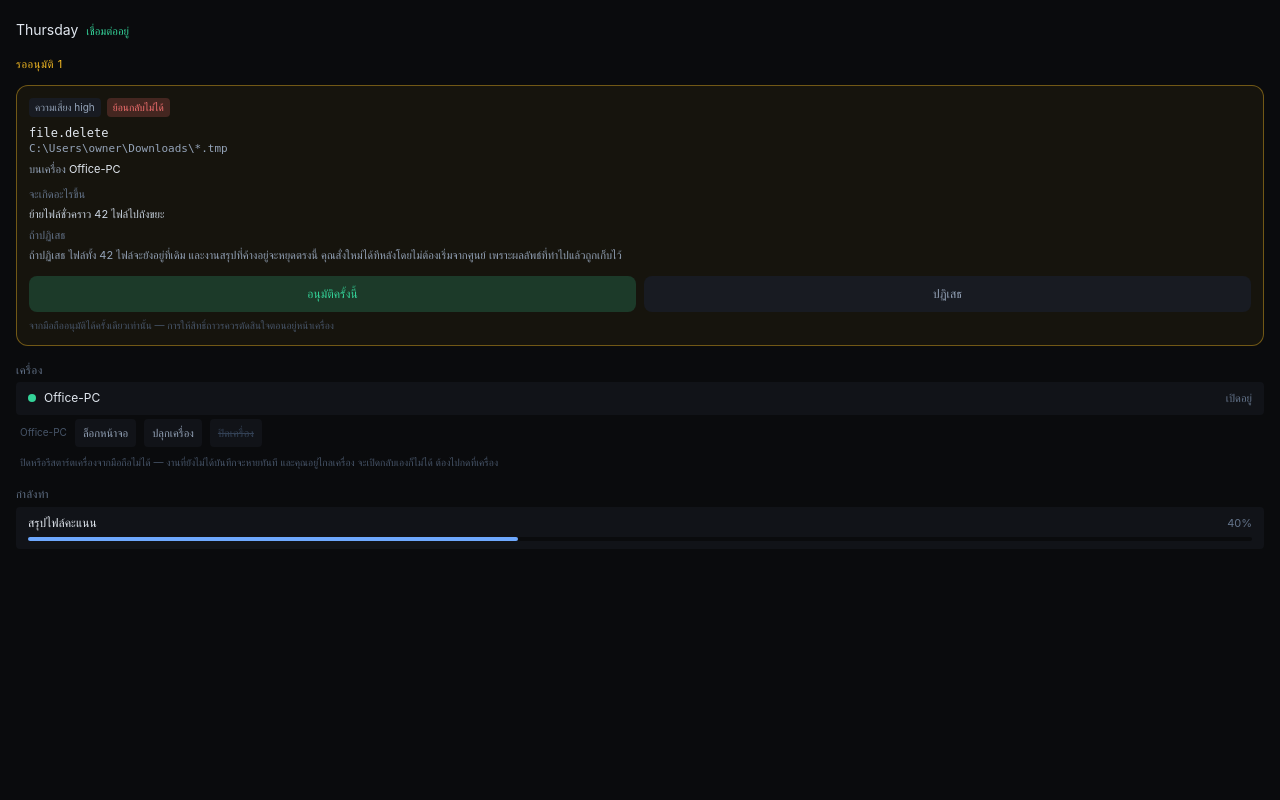
Test: what a phone may do to a machine › says an action is waiting on an answer rather than claiming it ran
Click the button "ล็อกหน้าจอ". click: (106, 433)
box: x1=75 y1=418 x2=136 y2=447
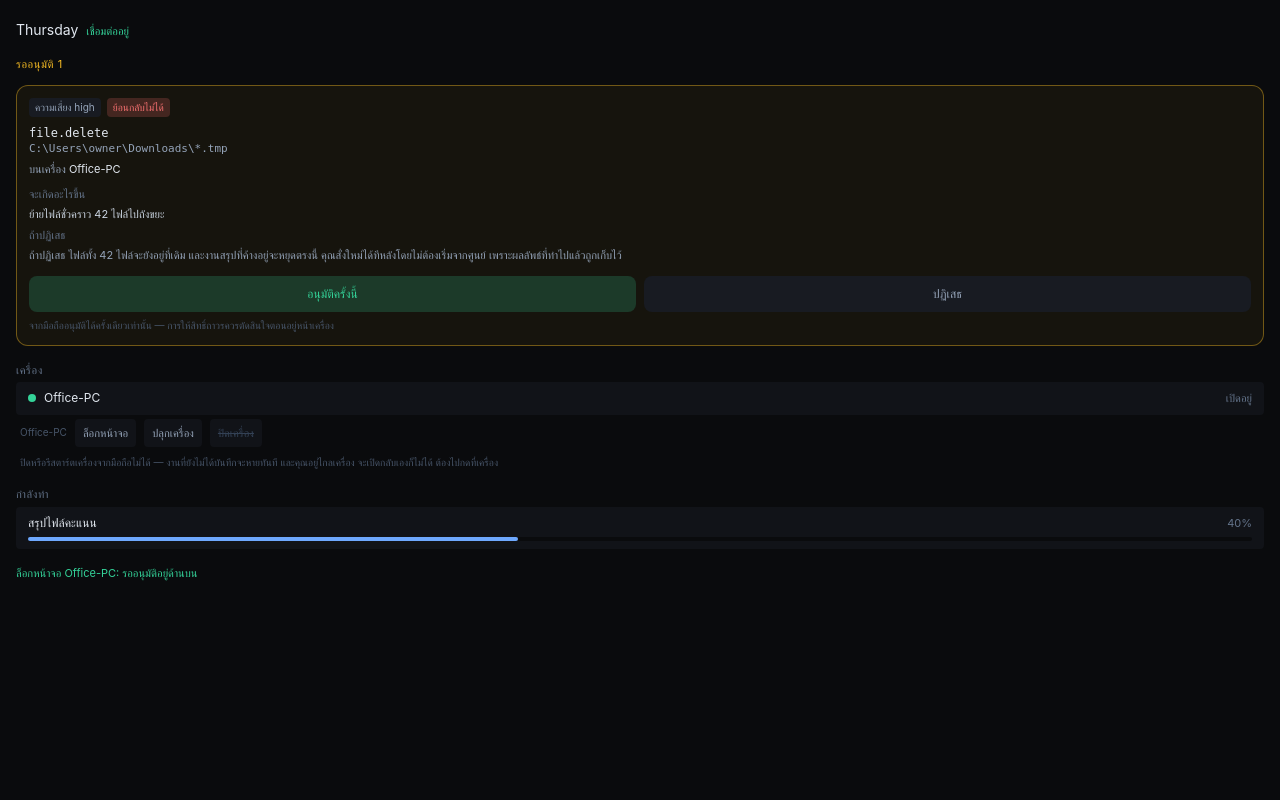
Result: the text "ล็อกหน้าจอ Office-PC: รออนุมัติอยู่ด้านบน" is shown at x1=16 y1=566 x2=198 y2=580
